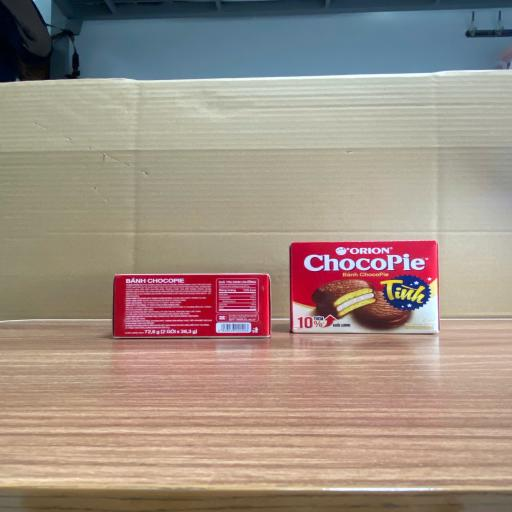chocopie: (288, 242, 439, 335), (113, 275, 269, 337)
